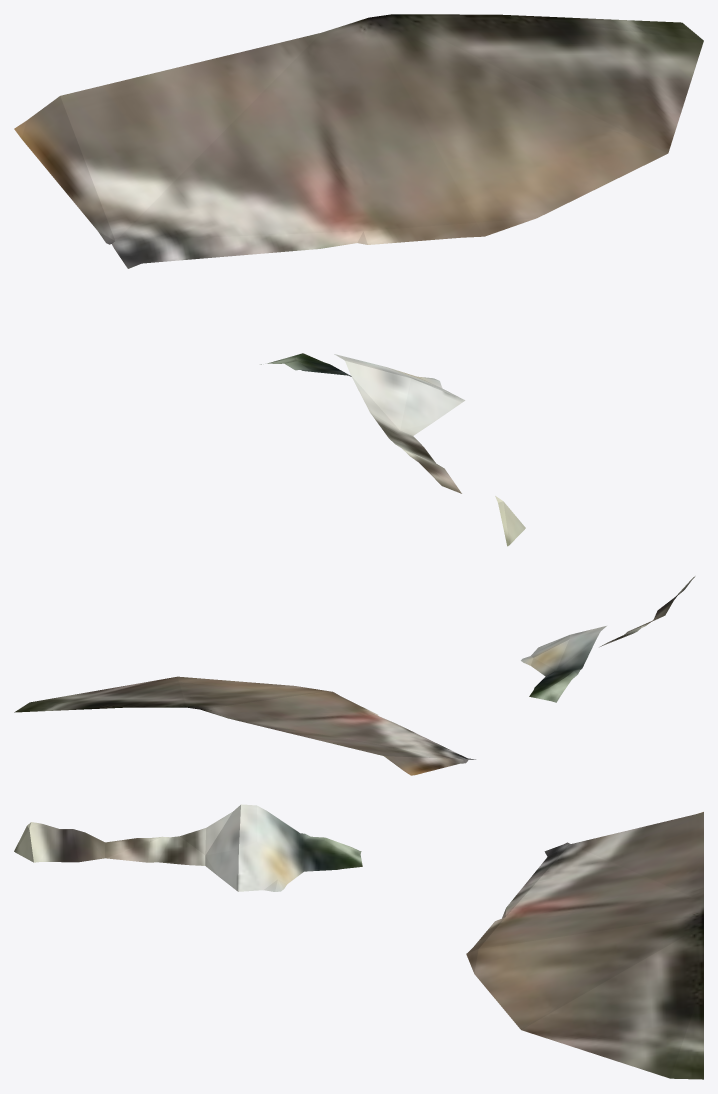
3 views of the same model, one above another, from view 1: azimuth 30°, elevation 25°; view 2: azimuth 150°, elevation 25°; view 3: azimuth 270°, elevation 25° (orthographic). The views are drawn at different scales.
Size of the model in its own units: 1.2 by 0.1401 by 1.54.
1 material, 1 textured.
